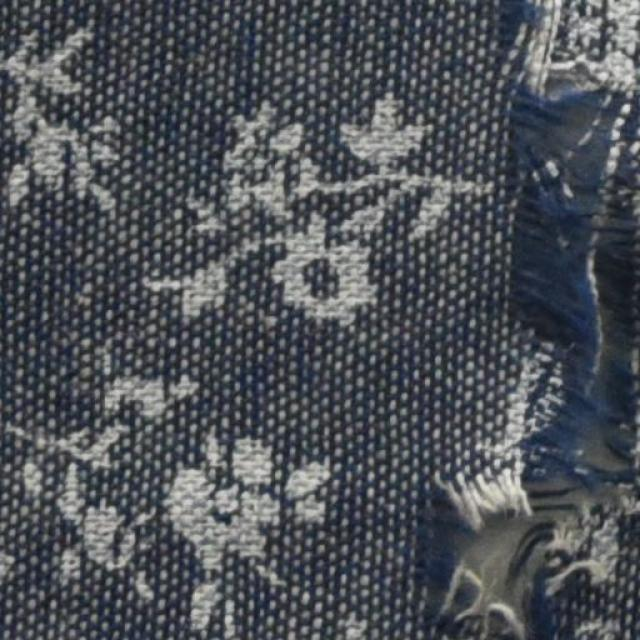Hole: (463, 485, 576, 605)
Snag: (415, 6, 639, 639)
